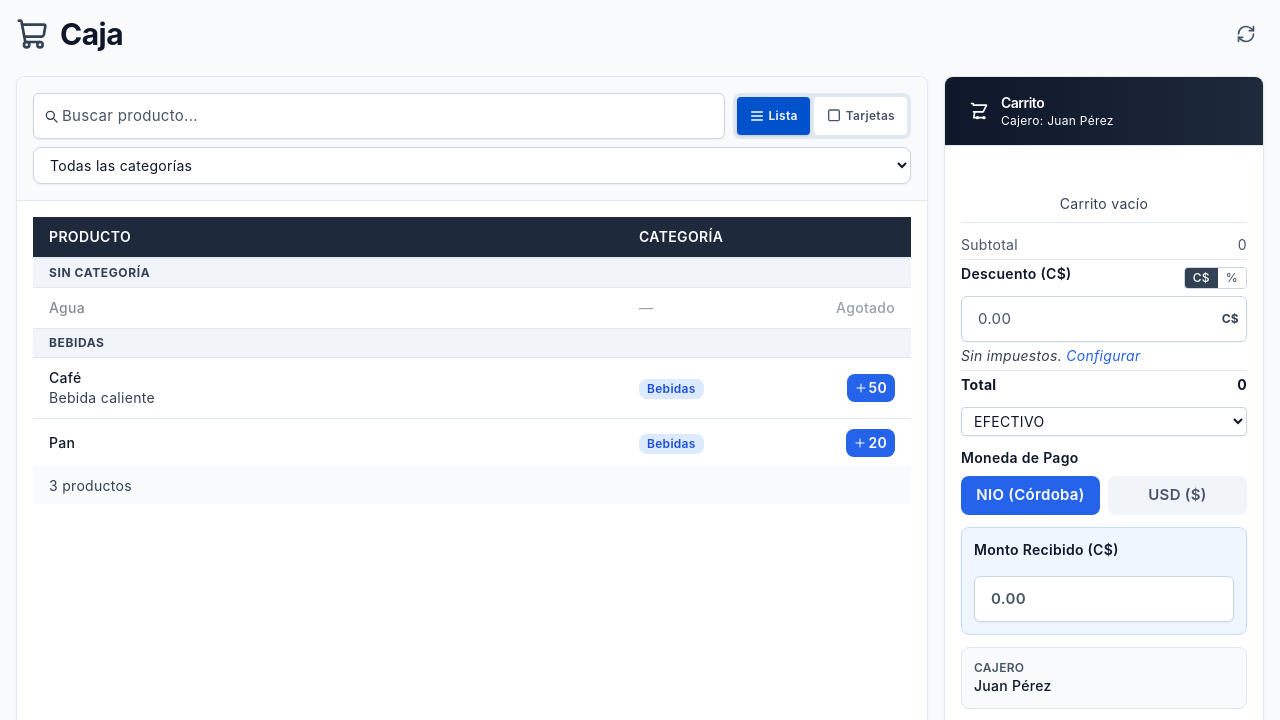
Test: POSPage › Cart – adding products › adds a product to cart when its button is clicked
Expected: the text "Café" is shown, 49,369 -> 82,386
// Button shows the product price ("50") before adding
Click the button "50".
click(871, 388)  # box 847,374 -> 895,402
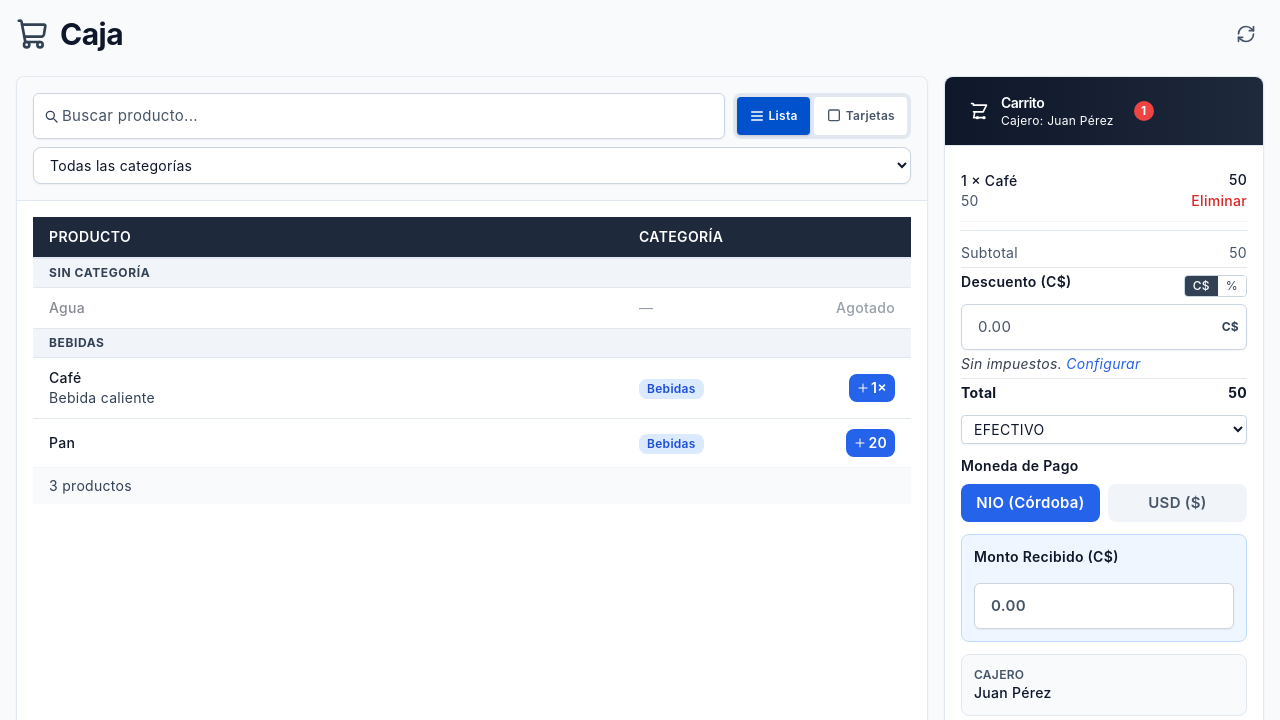
Result: the text "1 × Café" is shown at 961,171 -> 1017,191
